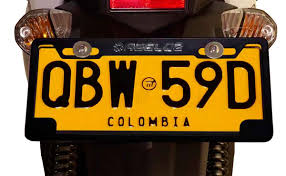number plate: (26, 38, 272, 140)
